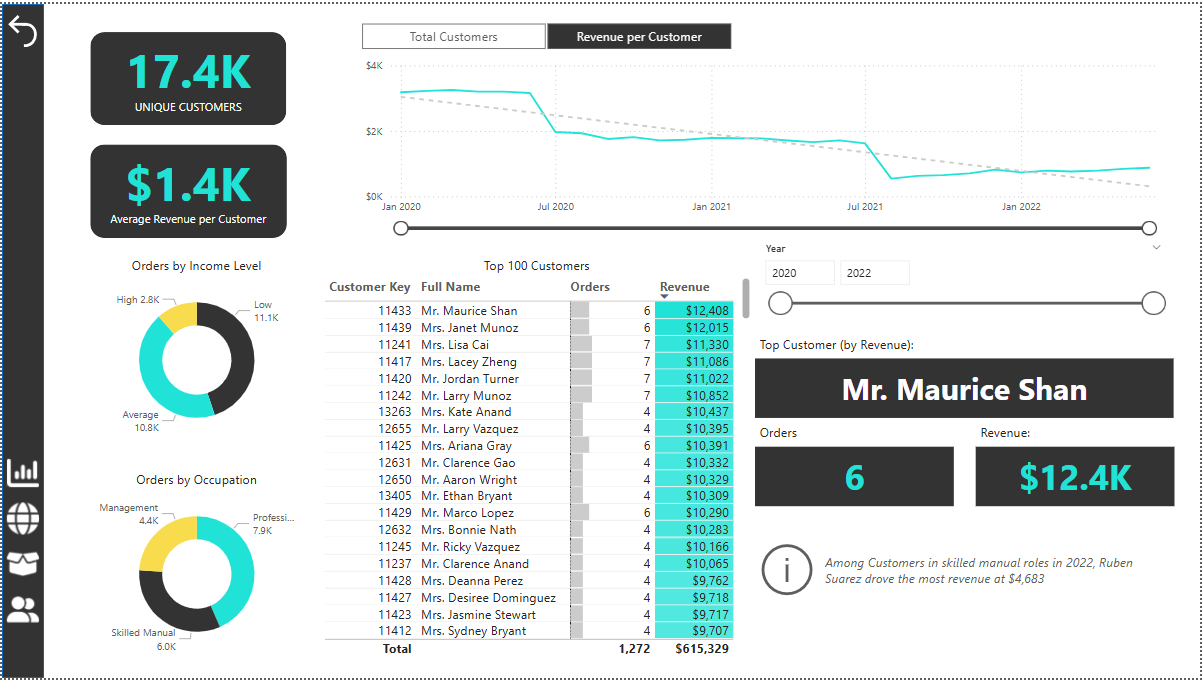

The page's visual inventory and layout, read from the dashboard file:
{"tool":"powerbi","page":{"name":"Customer Detail","canvas":[1280,720],"ordinal":3},"visuals":[{"type":"shape","box":[94.5,150.6,210,100],"z":0},{"type":"actionButton","box":[1.3,527.9,62.3,42.4],"z":0,"group":"g1"},{"type":"shape","box":[0,0,45,719.9],"z":1000},{"type":"actionButton","box":[1.3,576.5,62.3,42.4],"z":1000,"group":"g1"},{"type":"card","fields":{"Values":["Measure Table.Average Revenue per Customer"]},"box":[75.7,142.9,245.7,107.1],"z":2000},{"type":"actionButton","box":[1.3,625.1,62.3,42.4],"z":2000,"group":"g1"},{"type":"shape","box":[94.5,29.6,209.5,99.4],"z":3000},{"type":"actionButton","box":[1.3,479.3,62.3,42.4],"z":3000,"group":"g1"},{"type":"card","fields":{"Values":["Measure Table.Total Customers"]},"box":[75.7,22.9,245.7,107.1],"z":4000},{"type":"lineChart","fields":{"Y":["Measure Table.Average Revenue per Customer"],"Category":["Calendar Lookup.Date Hierarchy.Start of Year","Calendar Lookup.Date Hierarchy.Start of Month","Calendar Lookup.Date Hierarchy.Start of Week","Calendar Lookup.Date Hierarchy.Date"]},"box":[383.1,51.7,868.3,198.9],"z":5000},{"type":"donutChart","title":"Orders by Income Level","fields":{"Category":["Customer Lookup.Income Level"],"Y":["Measure Table.Total Orders"]},"box":[94.3,270,227.1,202.9],"z":6000},{"type":"donutChart","title":"Orders by Occupation","fields":{"Y":["Measure Table.Total Orders"],"Category":["Customer Lookup.Occupation"]},"box":[94.3,498.6,227.1,202.9],"z":7000},{"type":"tableEx","title":"Top 100 Customers","fields":{"Values":["Customer Lookup.CustomerKey","Customer Lookup.Full Name","Measure Table.Total Orders","Measure Table.Total Revenue"]},"box":[338.1,270.4,465.3,430.9],"z":8000},{"type":"card","fields":{"Values":["Customer Lookup.Full Name (Customer Detail)"]},"box":[804.7,378.2,446.8,63.6],"z":9000},{"type":"card","fields":{"Values":["Measure Table.Total Orders (Customer Detail)"]},"box":[804.7,472.8,212.1,63.6],"z":10000},{"type":"card","fields":{"Values":["Measure Table.Total Revenue (Customer Detail)"]},"box":[1039.3,472.8,212.1,63.6],"z":11000},{"type":"textbox","box":[804.7,349,212.1,29.2],"z":12000},{"type":"textbox","box":[1039.3,443.3,212.1,29.2],"z":13000},{"type":"textbox","box":[804.7,443.3,212.1,29.2],"z":14000},{"type":"slicer","fields":{"Values":["Calendar Lookup.Year"]},"box":[803.4,250.6,448.1,88.8],"z":15000},{"type":"actionButton","box":[804.7,570.1,446.8,68.9],"z":16000},{"type":"actionButton","box":[0,5.3,45.1,46.4],"z":17000},{"type":"group","id":"g1","title":"Navigation Buttons","box":[1.3,479.3,62.3,188.2],"z":18000},{"type":"slicer","fields":{"Values":["Customer Metric.Customer Metric"]},"box":[359.3,14.6,444.1,38.4],"z":18501}]}

Visuals, with their boxes on the page's 1280x720 design canvas (x1, y1, x2, y2). These are canvas units, not pixel positions in the 1203x684 screenshot, which may show the page scaled, cropped or inside an application window:
shape: select_region(94, 151, 304, 251)
actionButton: select_region(1, 528, 64, 570)
shape: select_region(0, 0, 45, 720)
actionButton: select_region(1, 576, 64, 619)
card - Measure Table.Average Revenue per Customer: select_region(76, 143, 321, 250)
actionButton: select_region(1, 625, 64, 668)
shape: select_region(94, 30, 304, 129)
actionButton: select_region(1, 479, 64, 522)
card - Measure Table.Total Customers: select_region(76, 23, 321, 130)
lineChart - Measure Table.Average Revenue per Customer x Calendar Lookup.Date Hierarchy.Start of Year: select_region(383, 52, 1251, 251)
"Orders by Income Level" donutChart: select_region(94, 270, 321, 473)
"Orders by Occupation" donutChart: select_region(94, 499, 321, 702)
"Top 100 Customers" tableEx: select_region(338, 270, 803, 701)
card - Customer Lookup.Full Name (Customer Detail): select_region(805, 378, 1252, 442)
card - Measure Table.Total Orders (Customer Detail): select_region(805, 473, 1017, 536)
card - Measure Table.Total Revenue (Customer Detail): select_region(1039, 473, 1251, 536)
textbox: select_region(805, 349, 1017, 378)
textbox: select_region(1039, 443, 1251, 472)
textbox: select_region(805, 443, 1017, 472)
slicer - Calendar Lookup.Year: select_region(803, 251, 1252, 339)
actionButton: select_region(805, 570, 1252, 639)
actionButton: select_region(0, 5, 45, 52)
"Navigation Buttons" group: select_region(1, 479, 64, 668)
slicer - Customer Metric.Customer Metric: select_region(359, 15, 803, 53)
